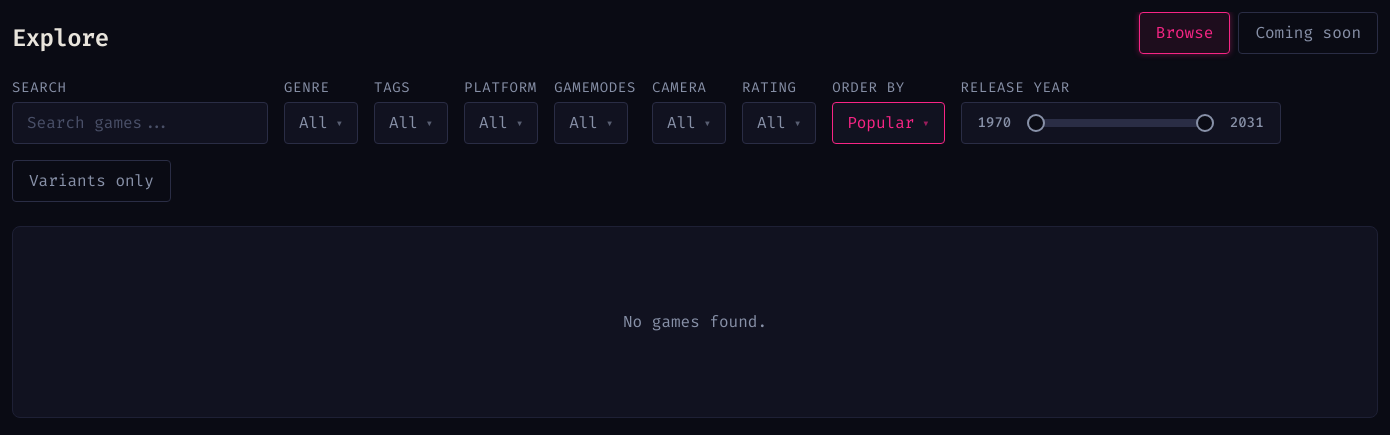
Test: Explore page › populates the genre dropdown from GenresResponse
The width and height of the screenshot is (1390, 435).
Expected: the text "Genre" is shown, left=284, top=78, right=330, bottom=97
Click the button "All ▾" below "Genre". click: (321, 123)
box: left=284, top=102, right=358, bottom=144
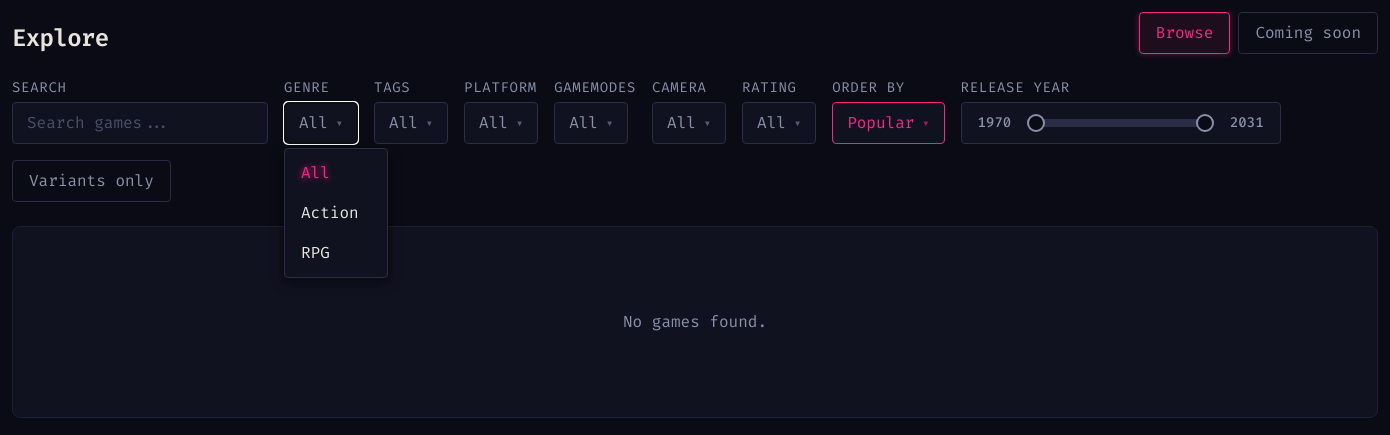
Now the button "Action" is shown, box left=285, top=193, right=387, bottom=233
Now the button "RPG" is shown, box left=285, top=233, right=387, bottom=273
